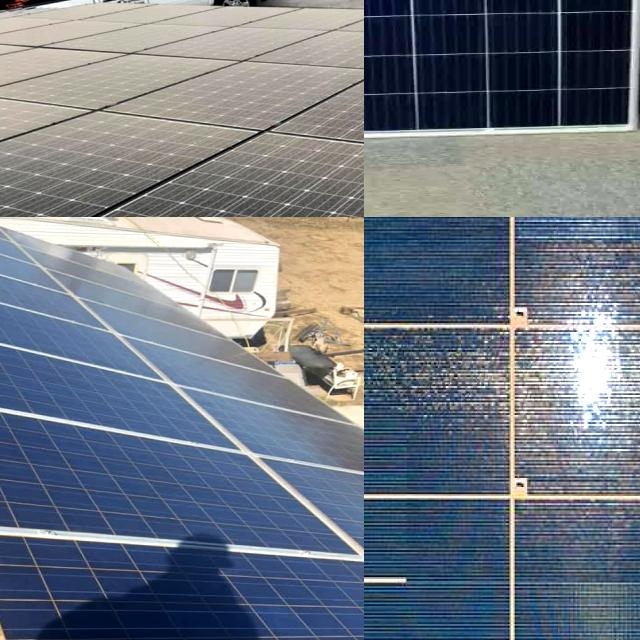crack: (0, 383, 364, 578), (364, 0, 640, 217), (0, 309, 285, 473), (0, 518, 364, 640), (0, 258, 179, 388), (178, 378, 364, 503), (235, 446, 364, 587), (0, 223, 151, 340)
shadow: (503, 241, 640, 504), (364, 318, 499, 423)
